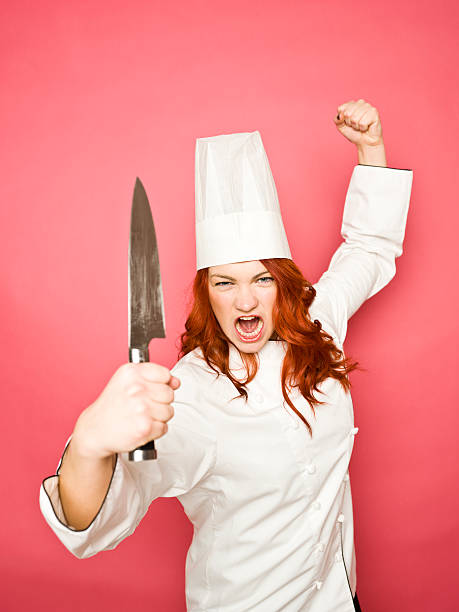knife: (124, 167, 171, 464)
